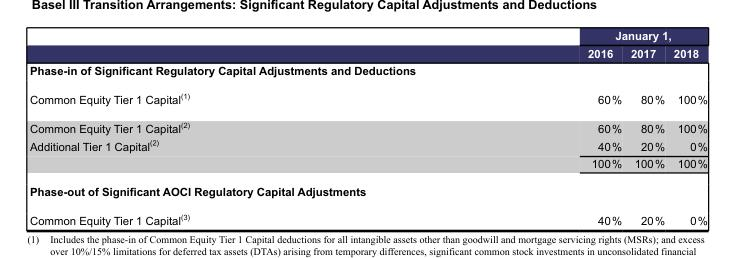table: (28, 28, 706, 226)
table column: (28, 28, 387, 226), (387, 28, 625, 226), (625, 28, 668, 226), (668, 28, 706, 226)
table column header: (28, 28, 706, 61)
table projected row header: (28, 177, 706, 205), (28, 61, 706, 83)
table row: (28, 83, 706, 112), (28, 177, 706, 205), (28, 112, 706, 136), (28, 154, 706, 177), (28, 61, 706, 83), (28, 205, 706, 226), (28, 43, 706, 61), (28, 136, 706, 154), (28, 28, 706, 43)
table spanning cell: (387, 28, 706, 43)
